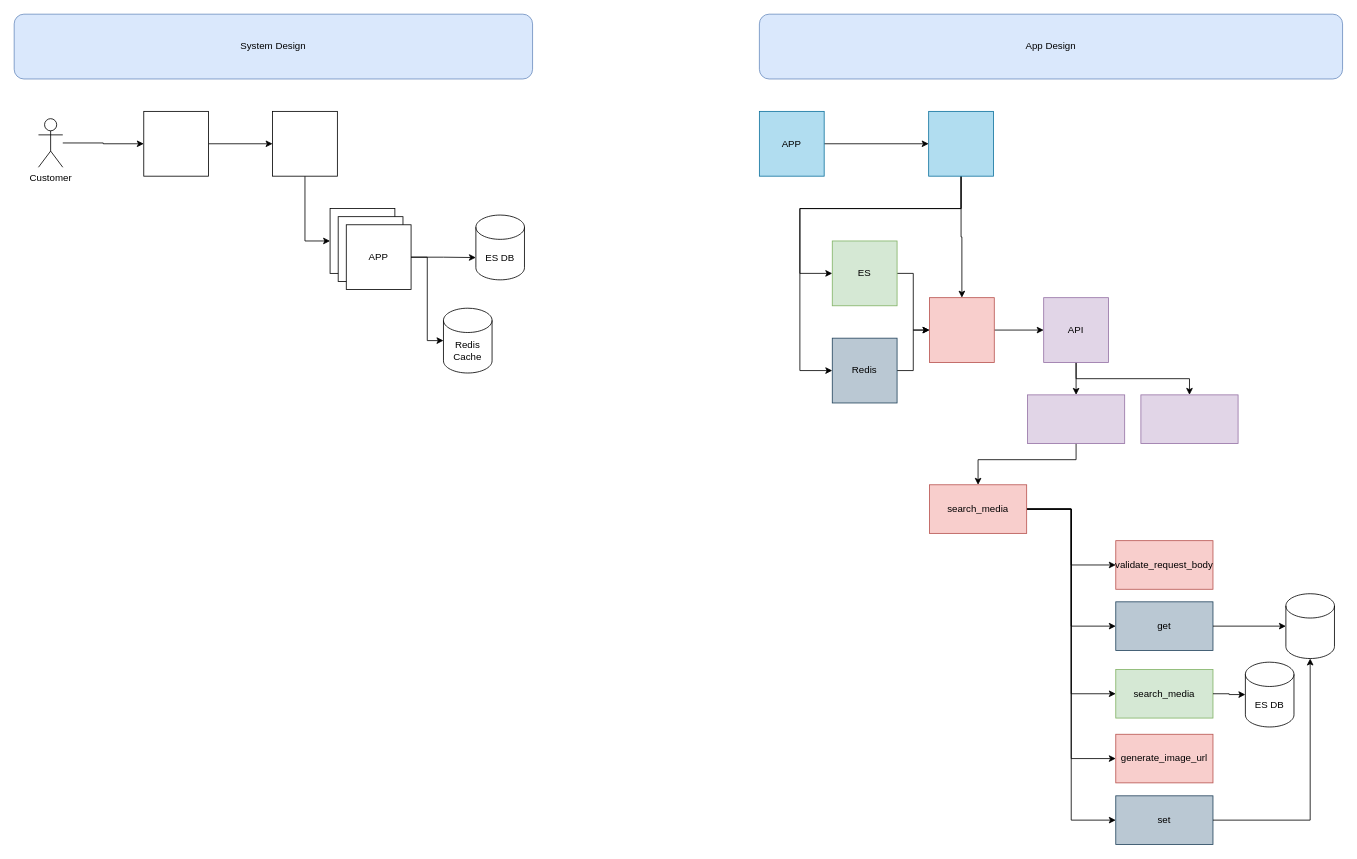
Image size: 1357x859. Some labels were removed from this diagram. Here are the shapes that lost their labels. From the top down, the box of each, then its label:
(143, 111, 209, 176): K8s Ingress
(272, 111, 337, 176): LB
(928, 111, 993, 176): MAIN
(929, 297, 994, 362): Service
(1027, 394, 1125, 443): /api/media/search
(1140, 394, 1238, 443): /health
(1285, 593, 1334, 659): Redis DB
